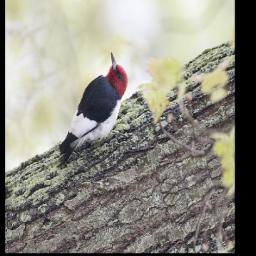Woodpecker: (41, 47, 140, 164)
